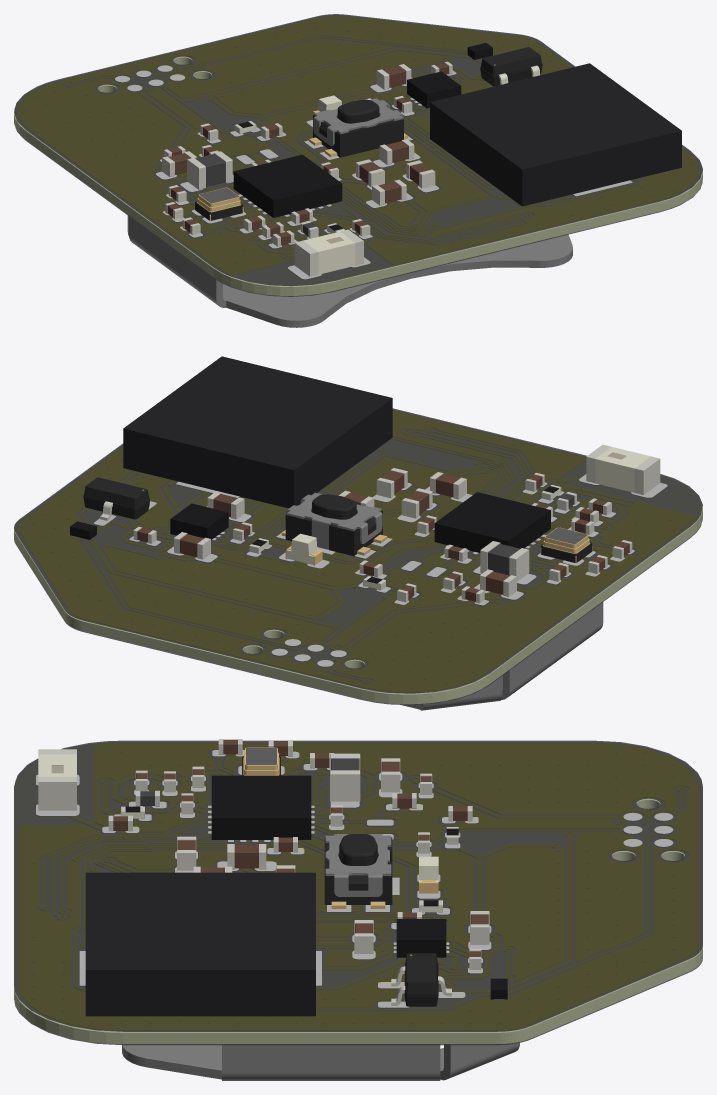
The model's file is main.glb.
3 views of the same model, one above another, from view 1: azimuth 30°, elevation 25°; view 2: azimuth 150°, elevation 25°; view 3: azimuth 270°, elevation 25° (orthographic). The views are drawn at different scales.
Visible parts, largest first — view 1: =>[0:1:1:39], =>[0:1:1:36], SAMESKY_CPT9019A_SMT (Shell), =>[0:1:1:41], =>[0:1:1:35], TI_RGE0024B_VQFN24_4x4_P0.5 (Shell), =>[0:1:1:21], =>[0:1:1:8] (×6), =>[0:1:1:37], =>[0:1:1:19], =>[0:1:1:15], =>[0:1:1:30] (+3 smaller); view 2: =>[0:1:1:39], =>[0:1:1:36], SAMESKY_CPT9019A_SMT (Shell), =>[0:1:1:41], TI_RGE0024B_VQFN24_4x4_P0.5 (Shell), =>[0:1:1:37], =>[0:1:1:21], =>[0:1:1:8] (×6), =>[0:1:1:35], =>[0:1:1:19], =>[0:1:1:15], DIODES_WQFN2020_12_US (Shell) (+4 smaller); view 3: =>[0:1:1:39], =>[0:1:1:36], SAMESKY_CPT9019A_SMT (Shell), =>[0:1:1:41], =>[0:1:1:35], TI_RGE0024B_VQFN24_4x4_P0.5 (Shell), =>[0:1:1:37], =>[0:1:1:21], =>[0:1:1:8] (×5), =>[0:1:1:19], =>[0:1:1:15], DIODES_WQFN2020_12_US (Shell) (+4 smaller).
Boxes of the visible parts, bbox=[...] form: =>[0:1:1:39]: bbox=[14, 14, 702, 286]; =>[0:1:1:36]: bbox=[18, 16, 698, 274]; SAMESKY_CPT9019A_SMT (Shell): bbox=[430, 63, 681, 206]; =>[0:1:1:41]: bbox=[14, 15, 702, 295]; =>[0:1:1:35]: bbox=[127, 215, 572, 327]; TI_RGE0024B_VQFN24_4x4_P0.5 (Shell): bbox=[233, 154, 342, 217]; =>[0:1:1:21]: bbox=[309, 98, 407, 157]; =>[0:1:1:8] (×6): bbox=[162, 64, 435, 205]; =>[0:1:1:37]: bbox=[115, 65, 632, 279]; =>[0:1:1:19]: bbox=[294, 229, 363, 276]; =>[0:1:1:15]: bbox=[480, 47, 542, 86]; =>[0:1:1:30]: bbox=[187, 151, 232, 189]; =>[0:1:1:39]: bbox=[14, 408, 702, 693]; =>[0:1:1:36]: bbox=[19, 411, 695, 691]; SAMESKY_CPT9019A_SMT (Shell): bbox=[123, 356, 392, 508]; =>[0:1:1:41]: bbox=[14, 410, 702, 704]; TI_RGE0024B_VQFN24_4x4_P0.5 (Shell): bbox=[434, 492, 550, 552]; =>[0:1:1:37]: bbox=[94, 474, 667, 666]; =>[0:1:1:21]: bbox=[281, 492, 387, 556]; =>[0:1:1:8] (×6): bbox=[174, 468, 516, 596]; =>[0:1:1:35]: bbox=[400, 602, 603, 710]; =>[0:1:1:19]: bbox=[586, 444, 660, 494]; =>[0:1:1:15]: bbox=[83, 477, 150, 520]; DIODES_WQFN2020_12_US (Shell): bbox=[170, 503, 228, 539]; =>[0:1:1:39]: bbox=[14, 740, 702, 1031]; =>[0:1:1:36]: bbox=[19, 743, 697, 1030]; SAMESKY_CPT9019A_SMT (Shell): bbox=[85, 872, 315, 1016]; =>[0:1:1:41]: bbox=[14, 742, 702, 1043]; =>[0:1:1:35]: bbox=[122, 1042, 519, 1080]; TI_RGE0024B_VQFN24_4x4_P0.5 (Shell): bbox=[211, 775, 311, 839]; =>[0:1:1:37]: bbox=[36, 750, 673, 1008]; =>[0:1:1:21]: bbox=[324, 834, 392, 908]; =>[0:1:1:8] (×5): bbox=[177, 758, 489, 953]; =>[0:1:1:19]: bbox=[38, 749, 76, 810]; =>[0:1:1:15]: bbox=[391, 953, 451, 1006]; DIODES_WQFN2020_12_US (Shell): bbox=[396, 919, 446, 957].
Size of the model in its own units: 0.0284 by 0.00678 by 0.0284.
